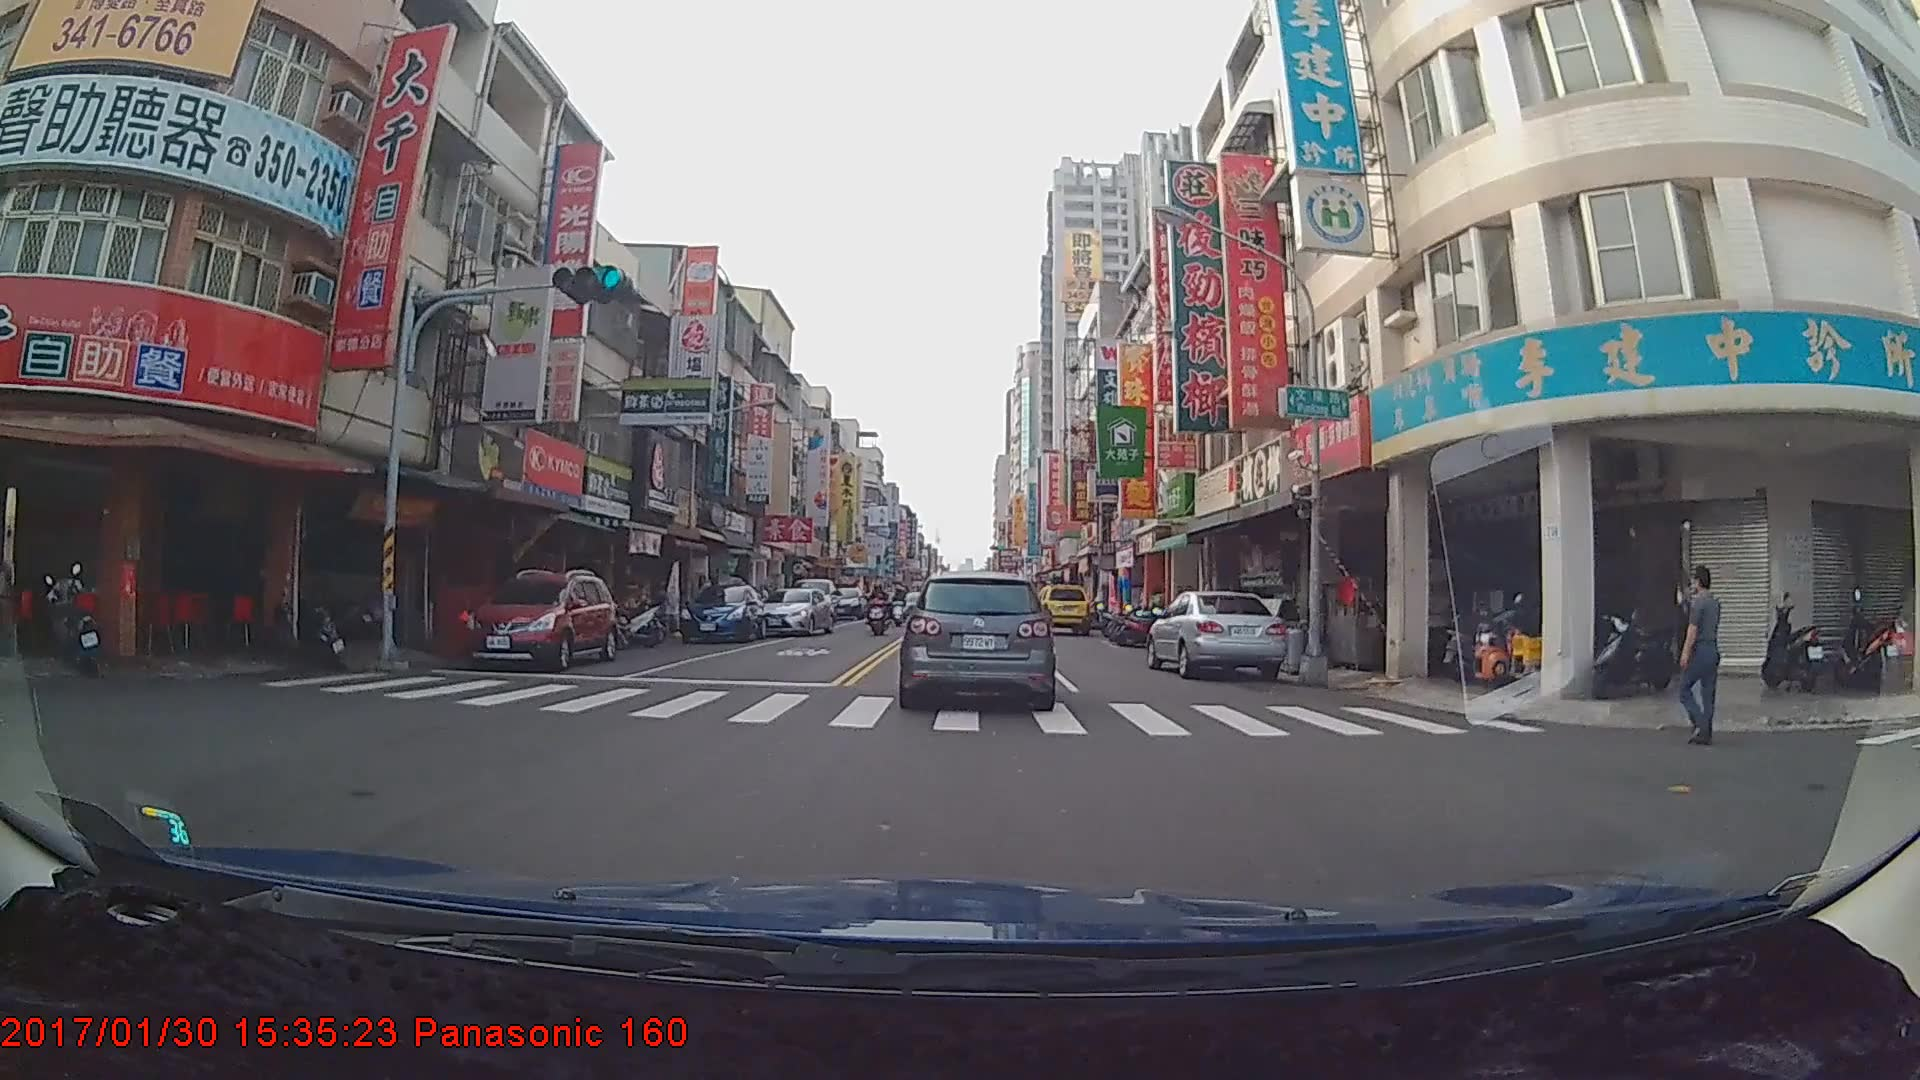pedestrian: (1681, 566, 1732, 753)
rider: (869, 581, 894, 637)
vehicle: (901, 571, 1053, 711), (464, 566, 619, 672), (1146, 589, 1289, 682), (678, 584, 766, 644), (757, 585, 833, 639), (1038, 583, 1091, 634)
